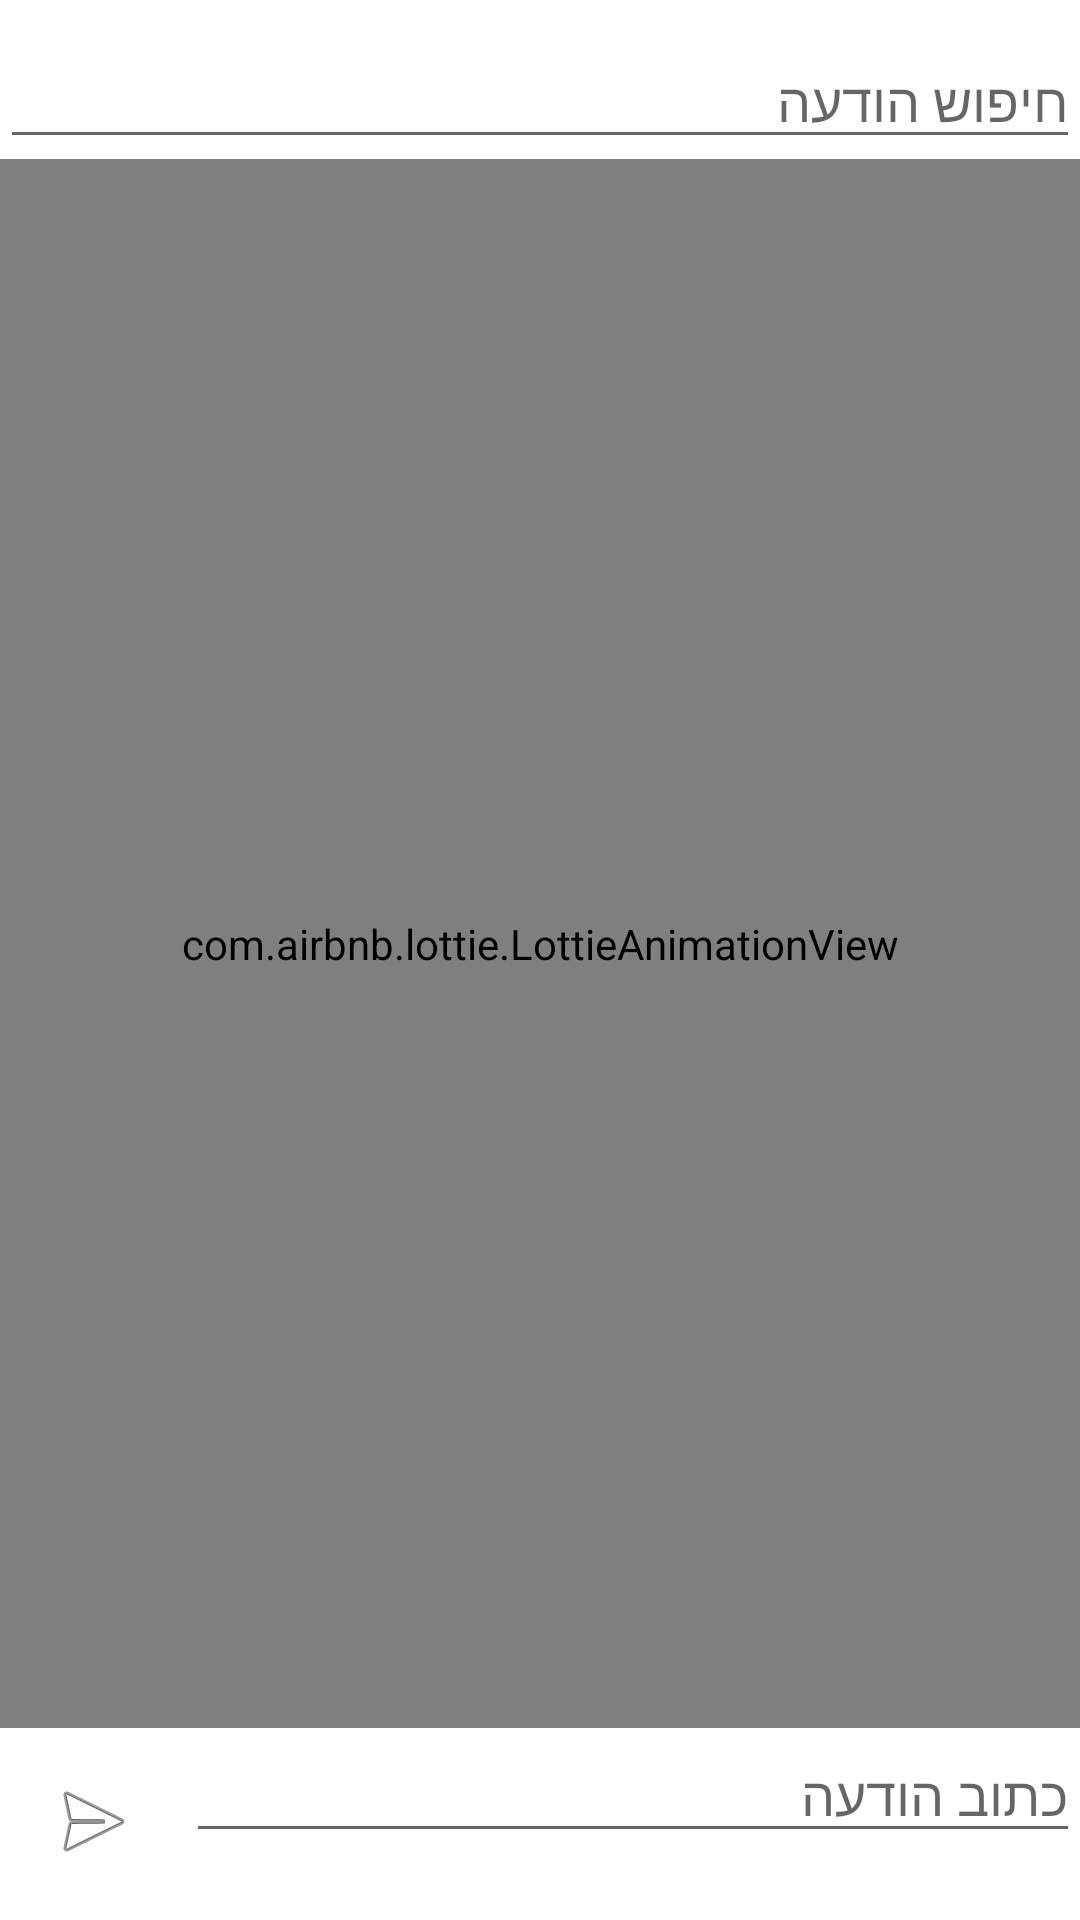

Icons on this 1080 x 1920 Android screen, each with the point to tap as (x,y):
send: (94,1821)
